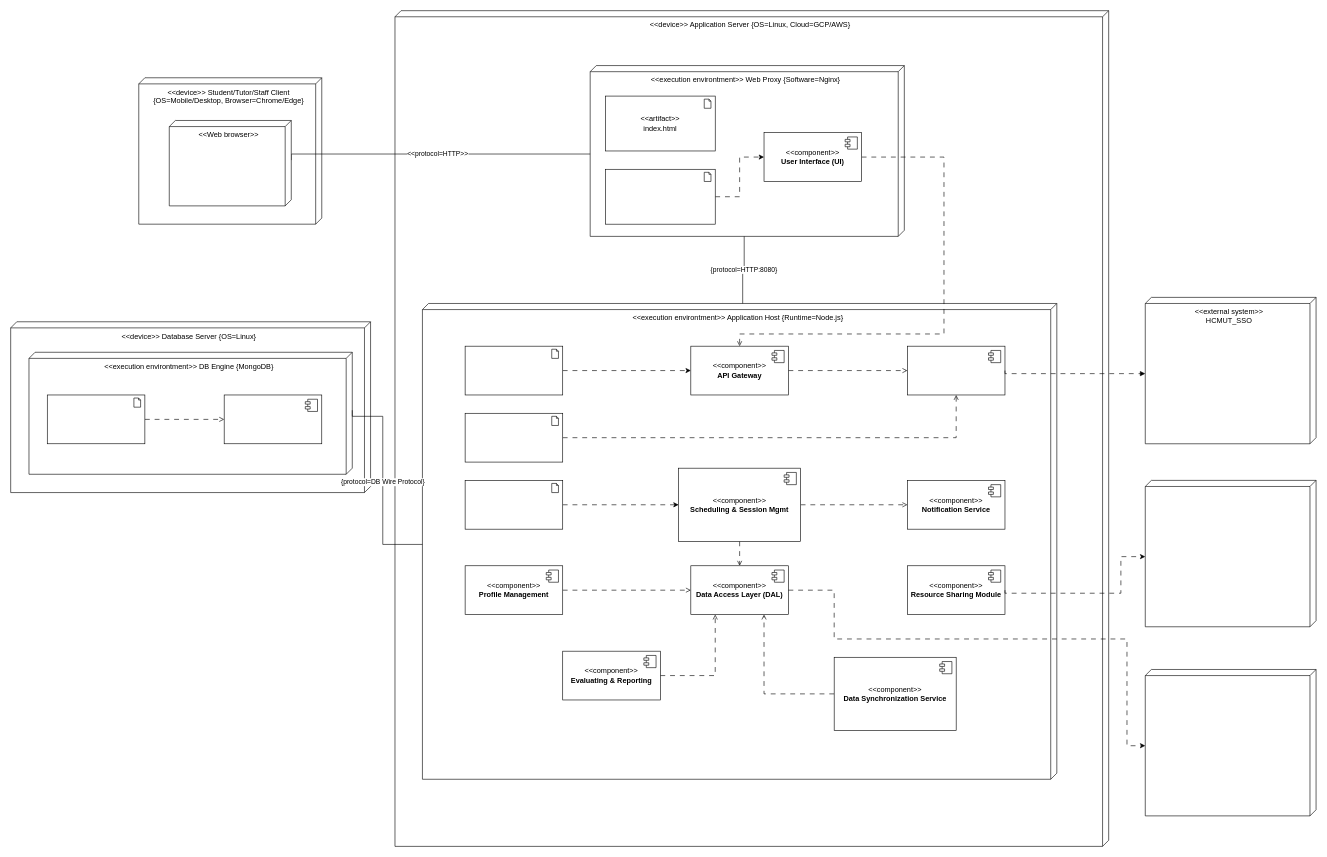
Some shapes in this 1327 by 857 pixel diagram are drawn without their labels. The shapes that lost their labels are listed below. From the top down, each one's centre as x and y in pixels, then its label:
At (660,196): "<<artifact>> bundle.js".
At (514,370): "<<artifact>> server.js".
At (956,370): "<<component>> Authentication Service".
At (96,419): "<<artifact>> user.schema.js".
At (273,419): "<<component>> Database Schema".
At (514,437): "<<artifact>> auth.js".
At (514,504): "<<artifact>> session.js".
At (1230,553): "<<external system>> HCMUT_LIBRARY".
At (1230,742): "<<external system>> HCMUT_DATACORE".
